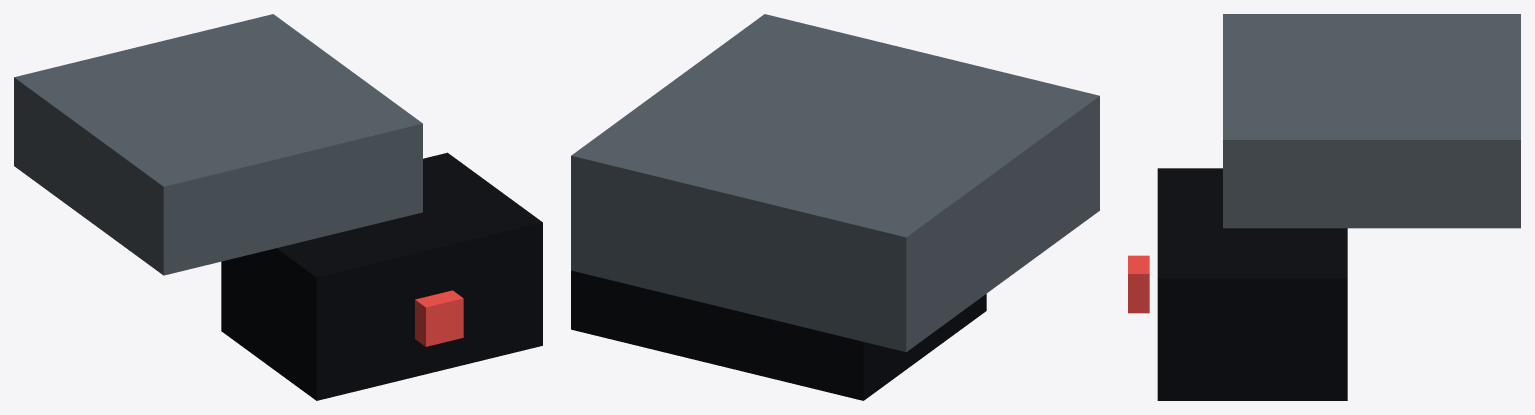
Rendered from prop.hallway_camera_corner.glb.
3 renders of one model, left to right at view 1: azimuth 30°, elevation 25°; view 2: azimuth 150°, elevation 25°; view 3: azimuth 270°, elevation 25°, orthographic. The views are drawn at different scales.
Parts seen in each view (by area): view 1: corner_mount, camera_body, red_dot; view 2: corner_mount, camera_body; view 3: corner_mount, camera_body, red_dot.
Part boxes in pixels (left/top/right/bottom): corner_mount: left=14, top=14, right=422, bottom=275; camera_body: left=221, top=152, right=542, bottom=400; red_dot: left=415, top=290, right=463, bottom=346; corner_mount: left=571, top=14, right=1099, bottom=352; camera_body: left=571, top=270, right=986, bottom=400; corner_mount: left=1223, top=14, right=1520, bottom=228; camera_body: left=1157, top=168, right=1347, bottom=400; red_dot: left=1128, top=255, right=1149, bottom=313.
Size of the model in its own units: 0.735 by 0.445 by 0.725.
